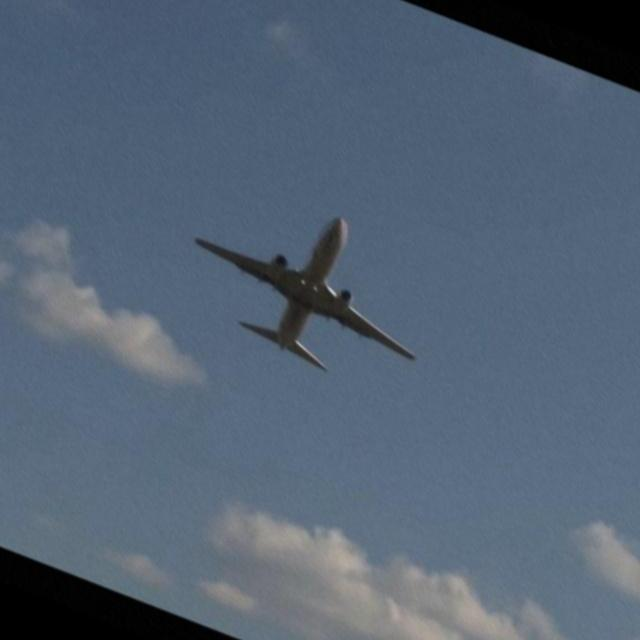airplane: (188, 209, 421, 372)
